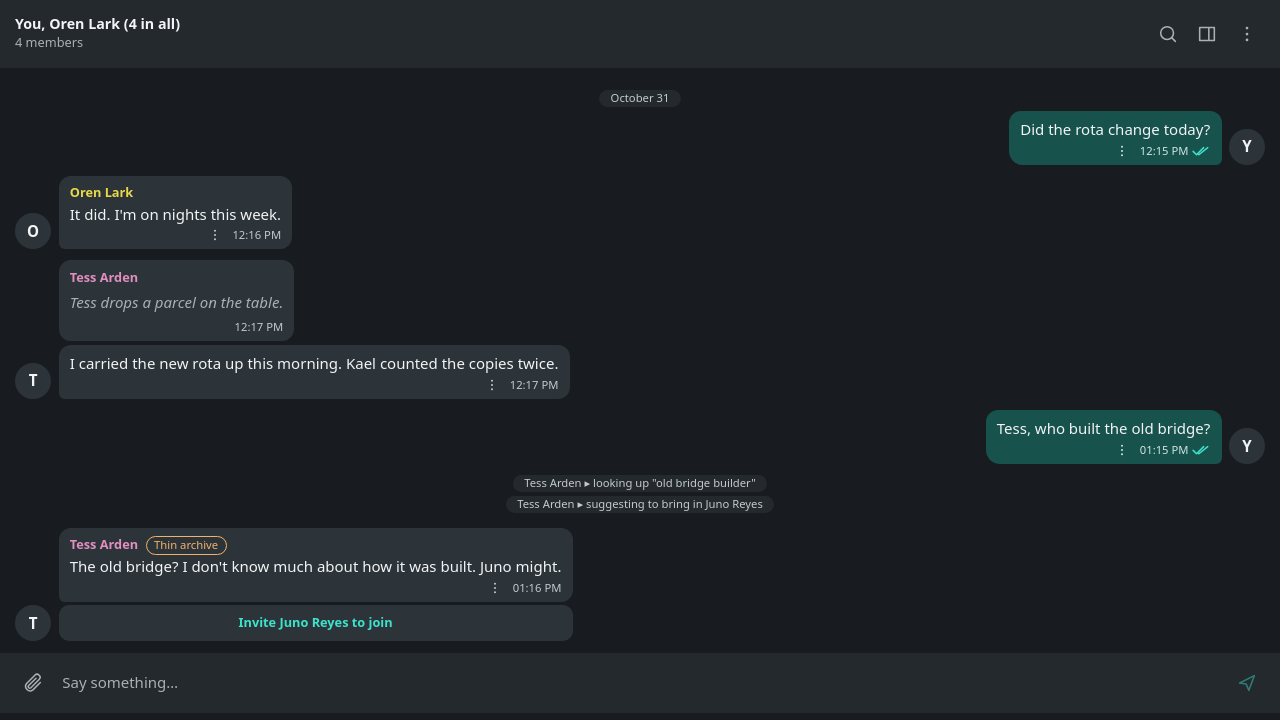
Scenario: arrows move through the members, a click picks one, Escape closes the list
The width and height of the screenshot is (1280, 720).
Type "@" into the text box named "Message".
click(640, 682); type("@")  # box [55, 660, 1225, 705]
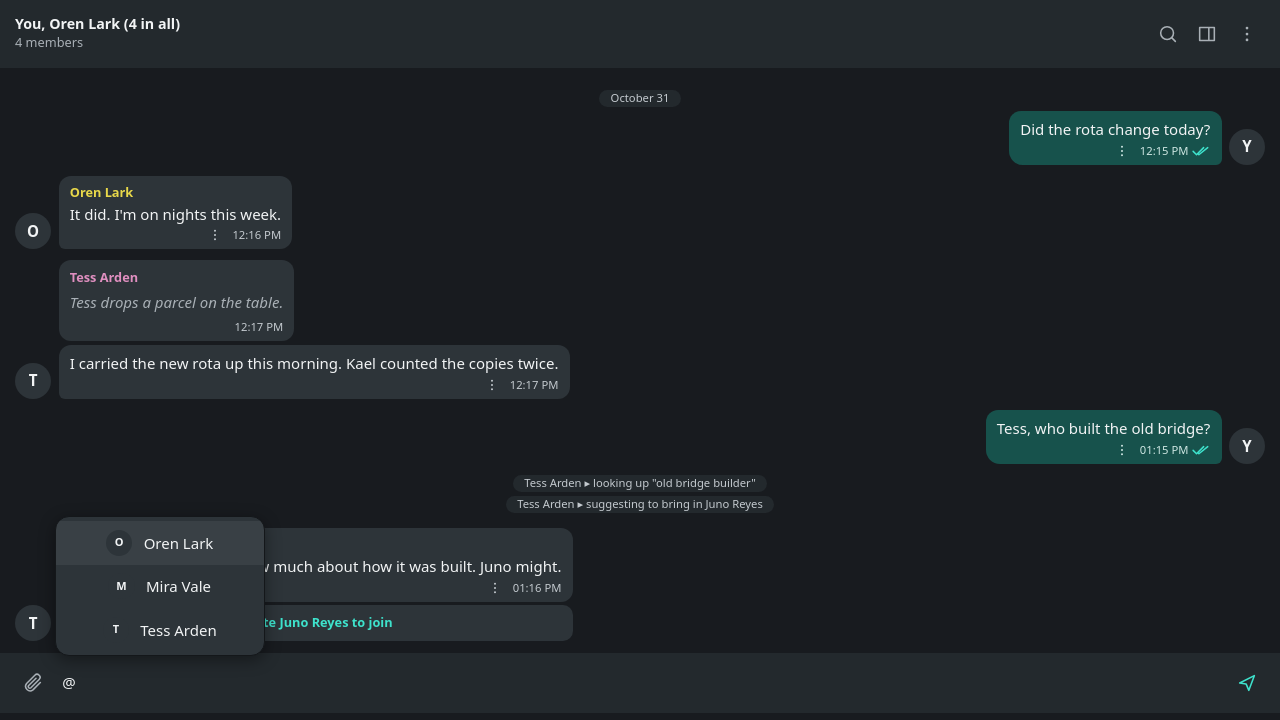
Press Arrowdown
Press Escape
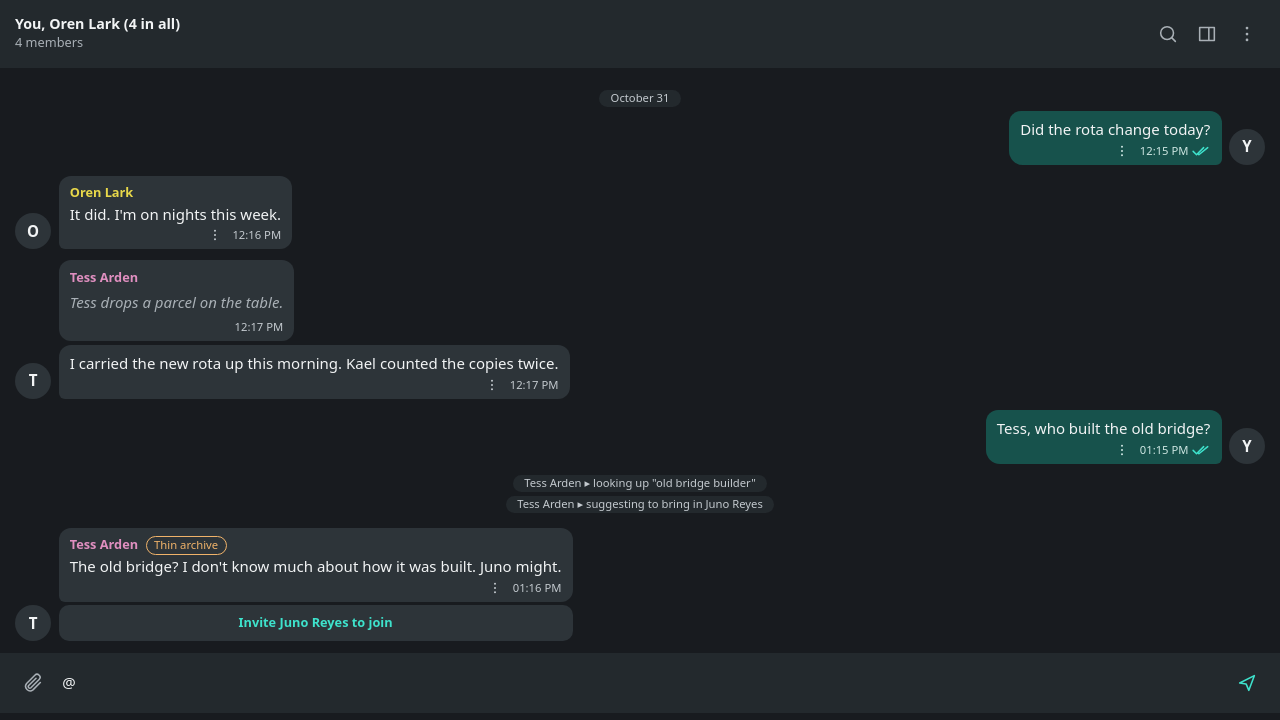
Expected: the list "O Oren Lark M Mira Vale T Tess Arden" is gone
Type "t" into the text box named "Message".
click(640, 682); type("t")  # box [55, 660, 1225, 705]
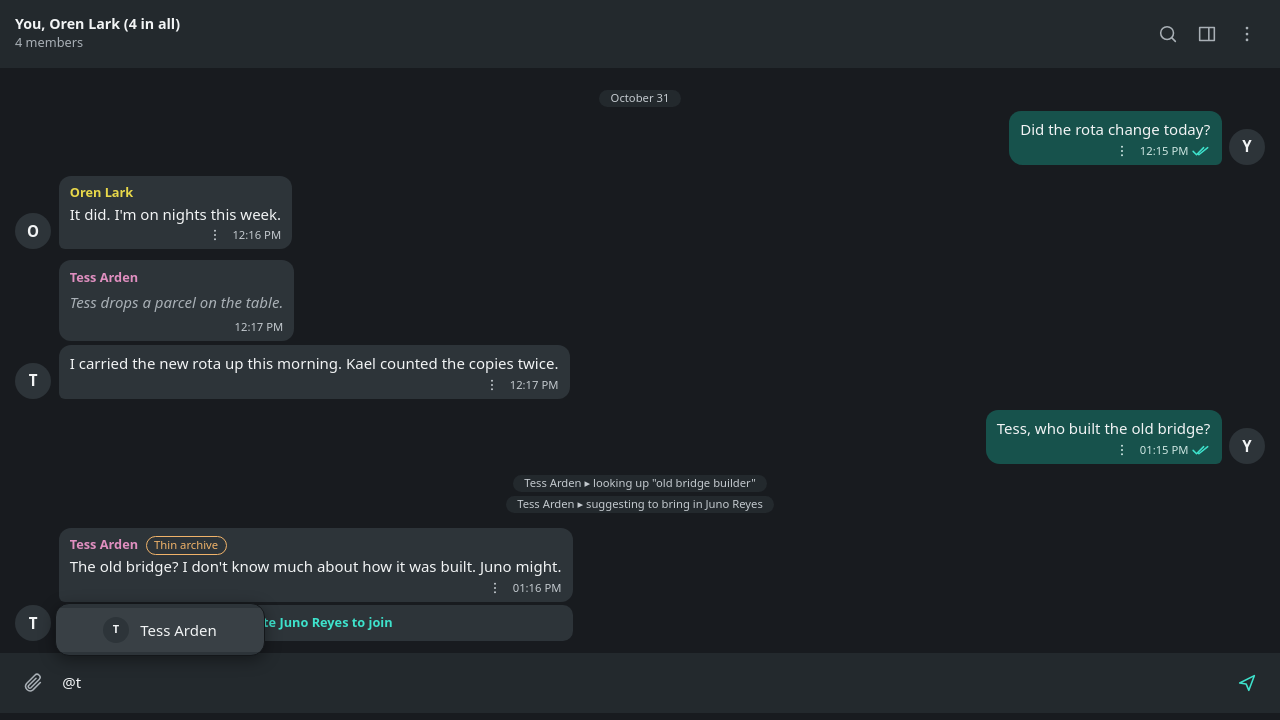
Click the button "T Tess Arden".
click(160, 630)  # box [56, 608, 264, 652]
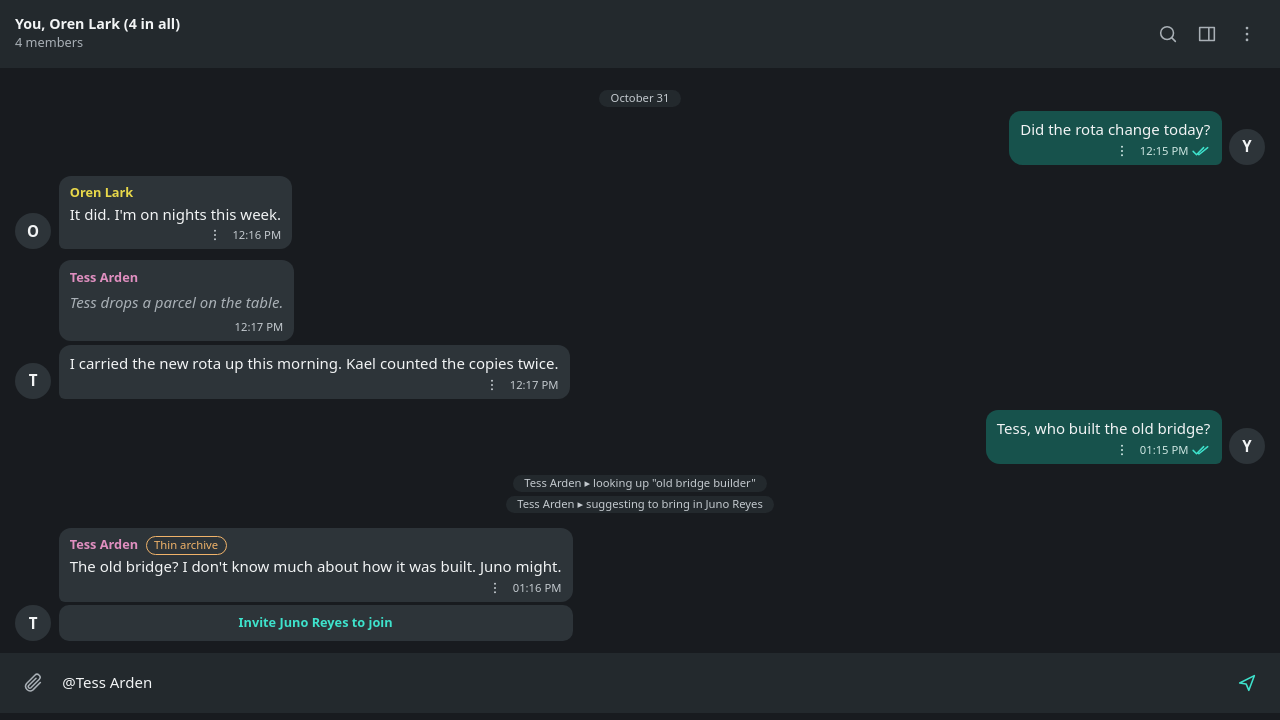
Expected: the text box named "Message" holds "@Tess Arden ", [55, 660, 1225, 705]
